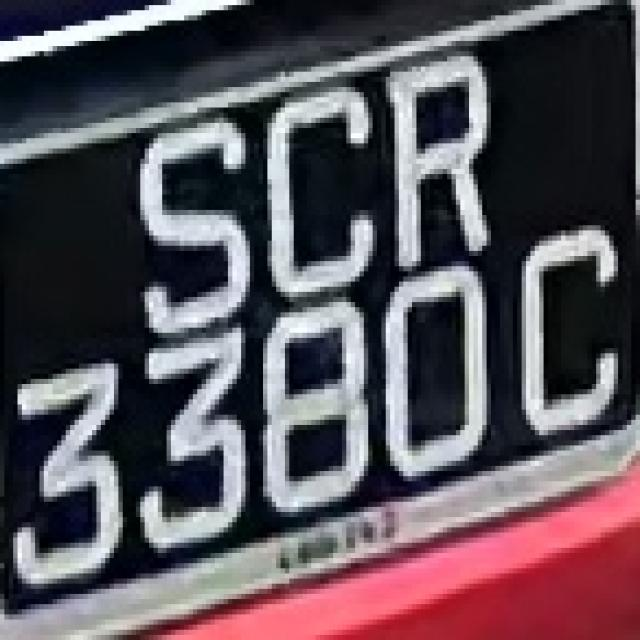0: (377, 266, 495, 482)
3: (123, 338, 245, 578), (9, 353, 127, 599)
8: (245, 297, 377, 527)
C: (496, 200, 632, 471), (250, 72, 381, 307)
R: (381, 35, 500, 282)
S: (127, 97, 250, 333)
